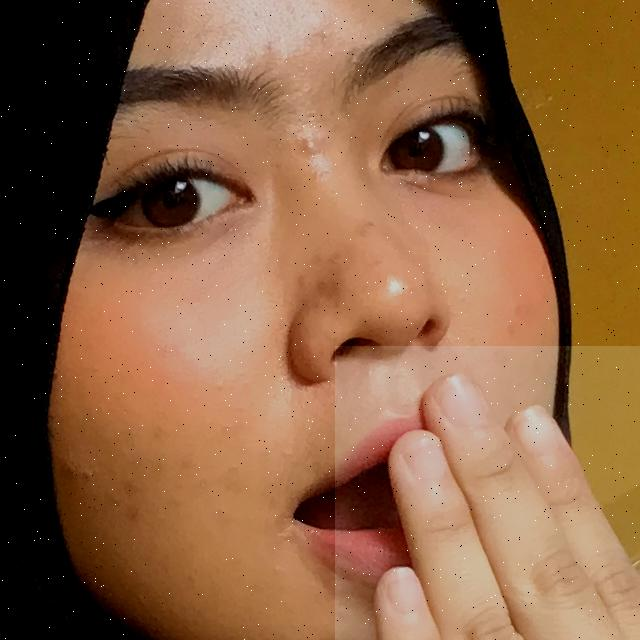ngantuk: (335, 346, 640, 640)
